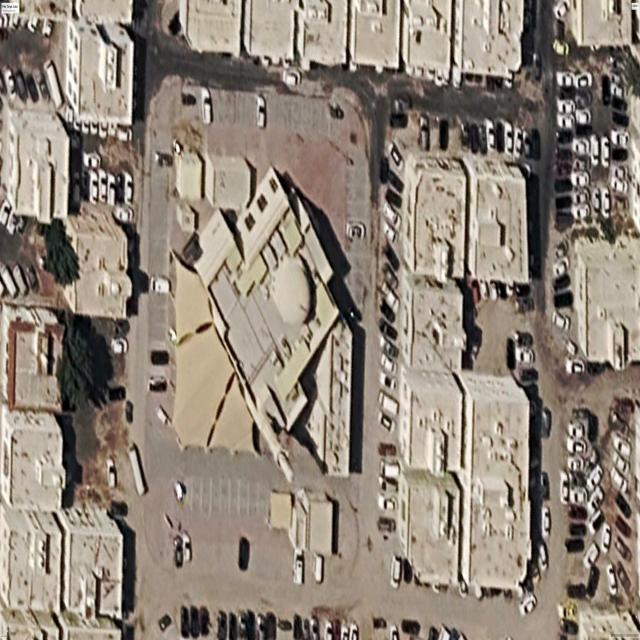Home: (194, 167, 339, 481)
